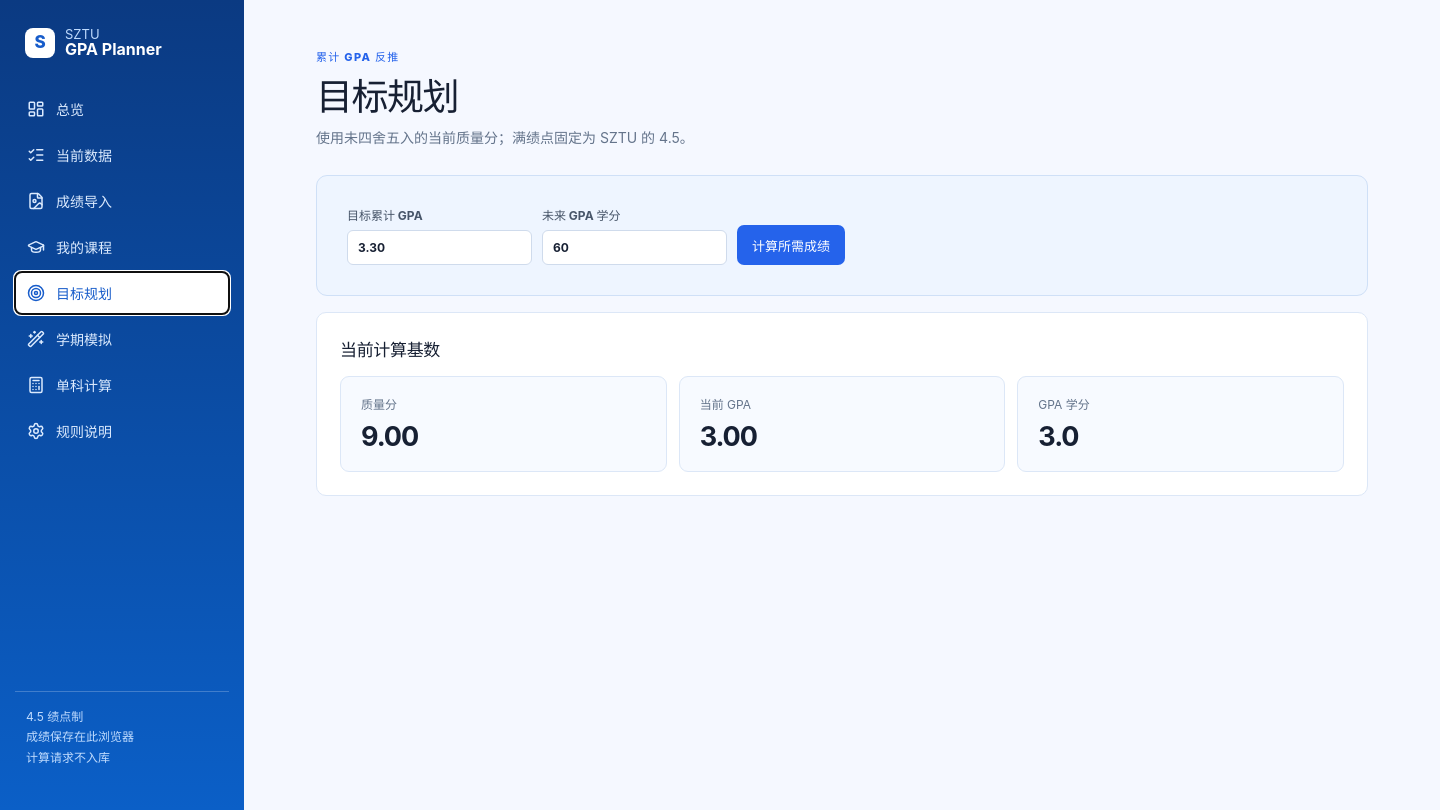
grade screenshot import flow › keeps dashboard, target planning, semester simulation, and course-score planning connected
Earlier steps of the test are not shown.
What coordinates should you click on to do the following:
click the button "计算所需成绩"
I would click on:
 (791, 245)
Its box is [737,225,845,265].
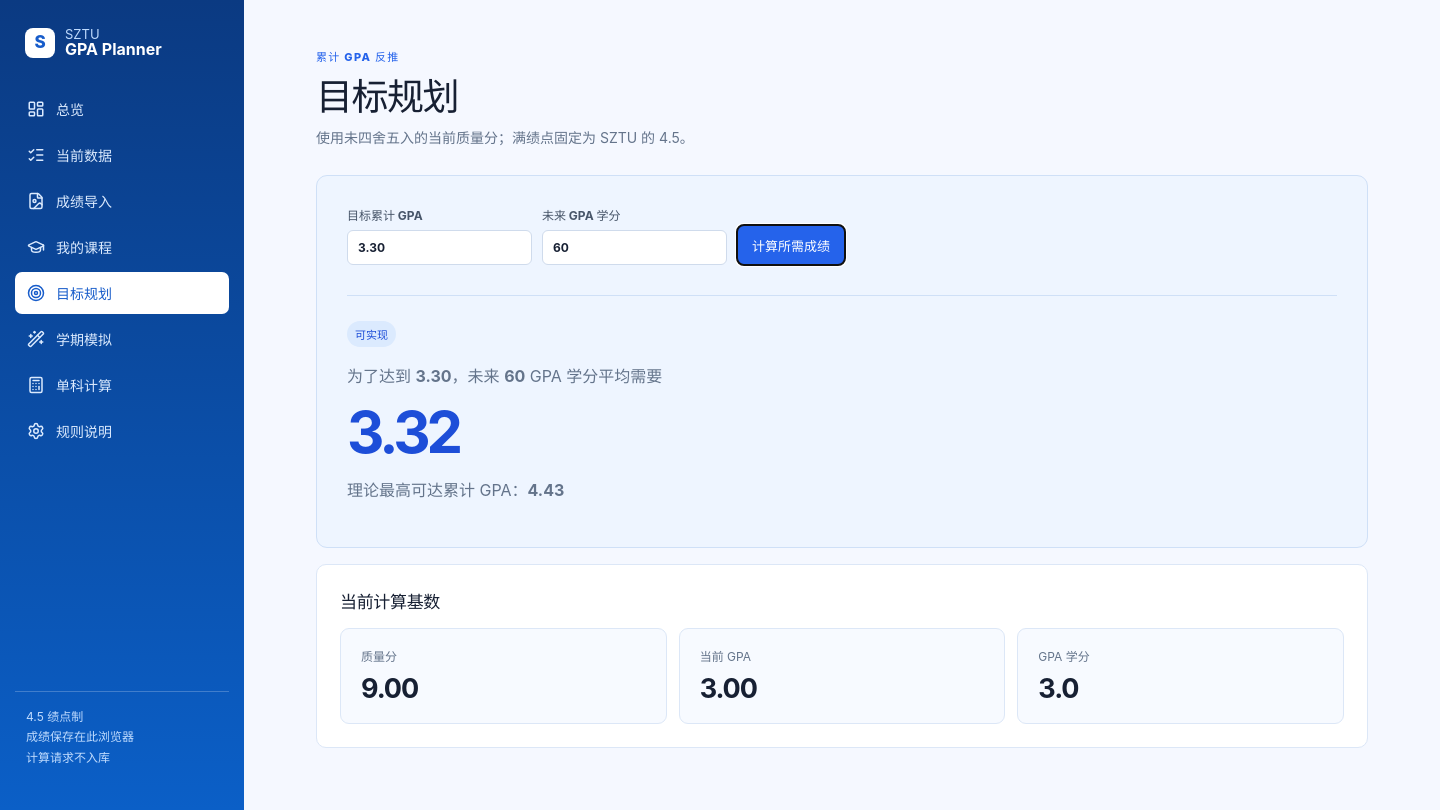
Result: the text "3.32" is shown at [347,397,459,467]
What coordinates should you click on to do the following:
click the button "学期模拟"
I would click on:
 (122, 339)
Its box is [15,318,229,360].
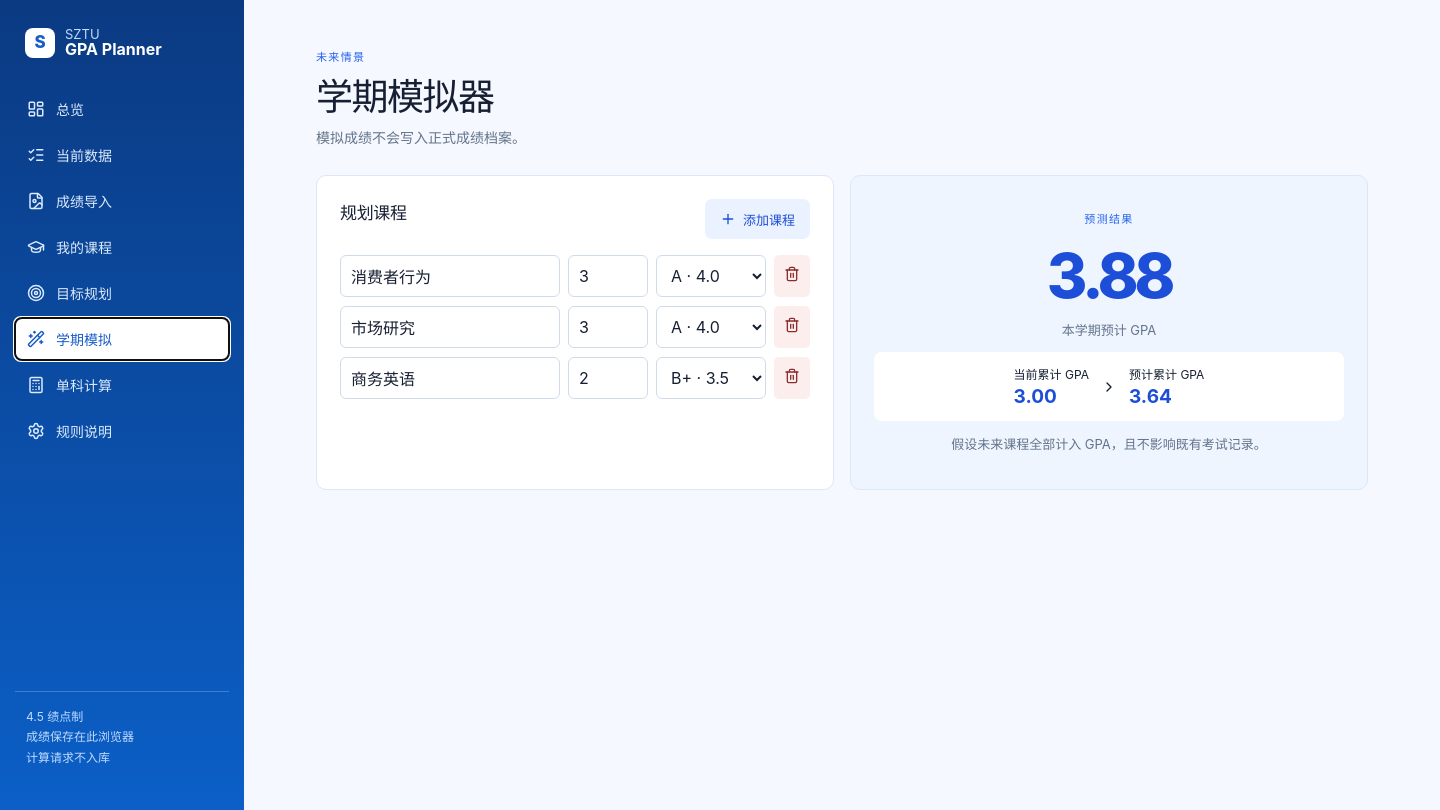
Result: the text "3.88" is shown at [1047,238,1171,313]
What coordinates should you click on to do the following:
click the button "单科计算"
I would click on:
 (122, 385)
Its box is [15,364,229,406].
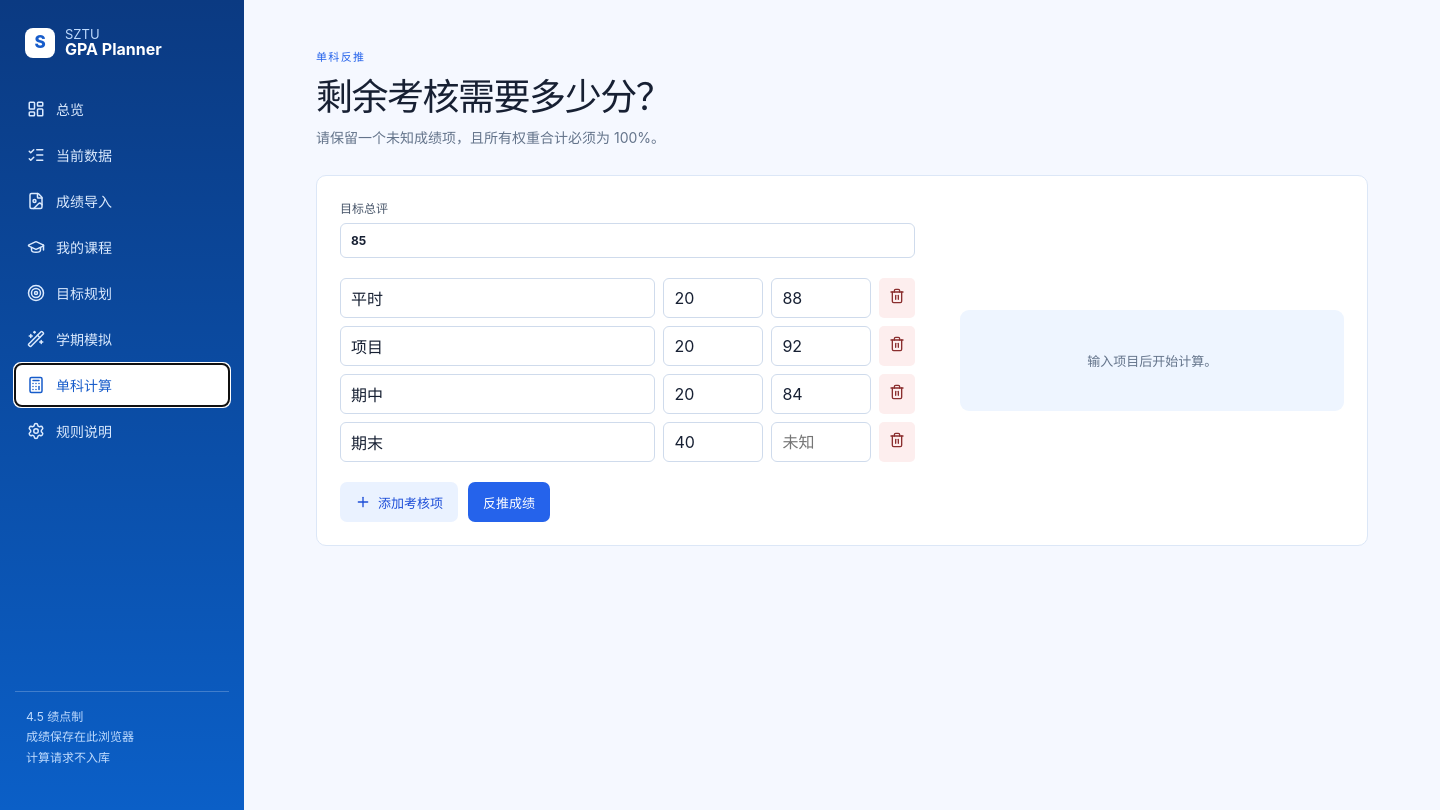
What coordinates should you click on to do the following:
click the button "添加考核项"
I would click on:
 (399, 502)
Its box is [340,482,458,522].
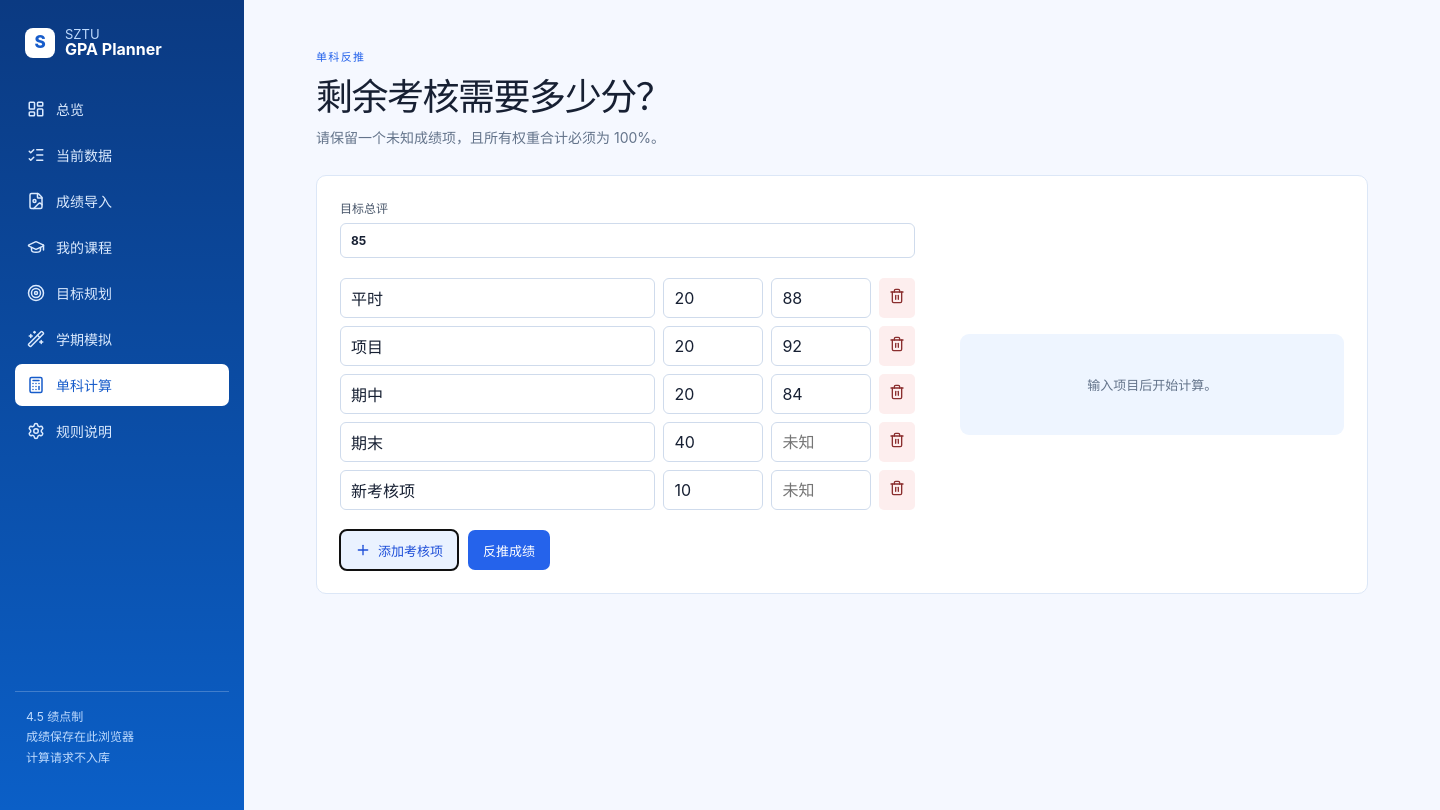
Result: the field named "考核项 5 名称" is shown at [340,470,655,510]
What coordinates should you click on to do the following:
click the button named "删除考核项 新考核项"
I would click on:
 (897, 490)
Its box is [879,470,915,510].
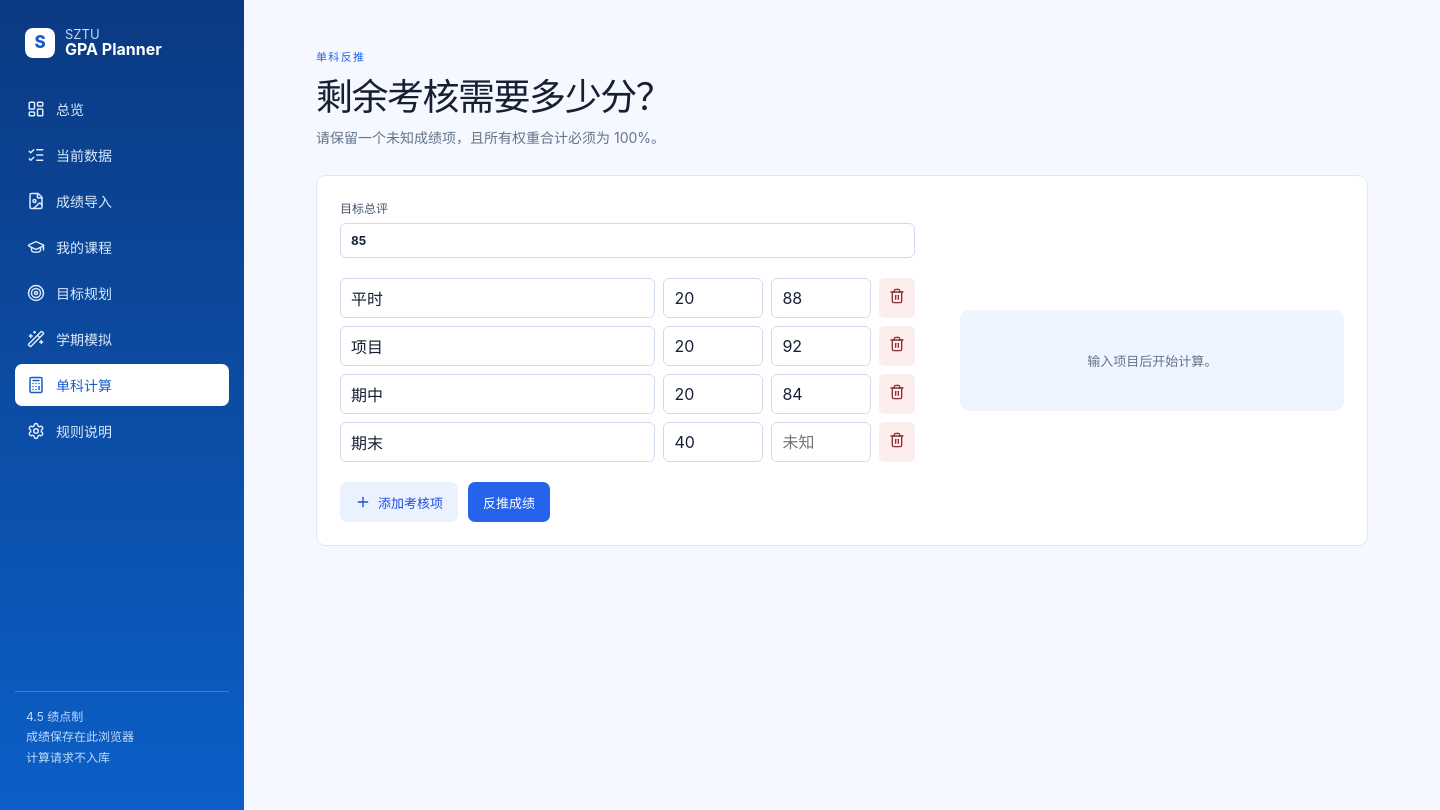
What coordinates should you click on to do the following:
click the button "反推成绩"
I would click on:
 (509, 502)
Its box is [468,482,550,522].
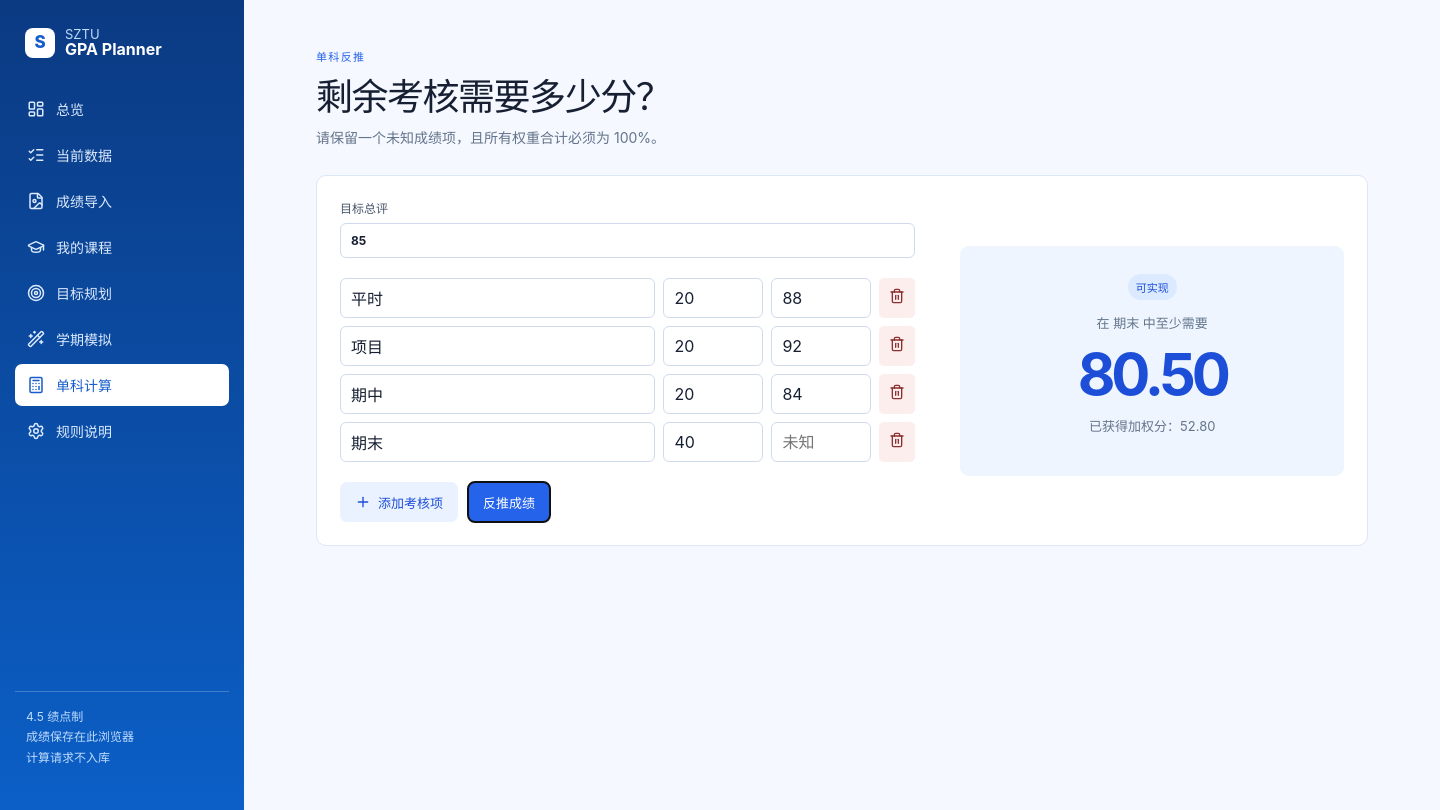
Result: the text "80.50" is shown at [1078,338,1227,408]
